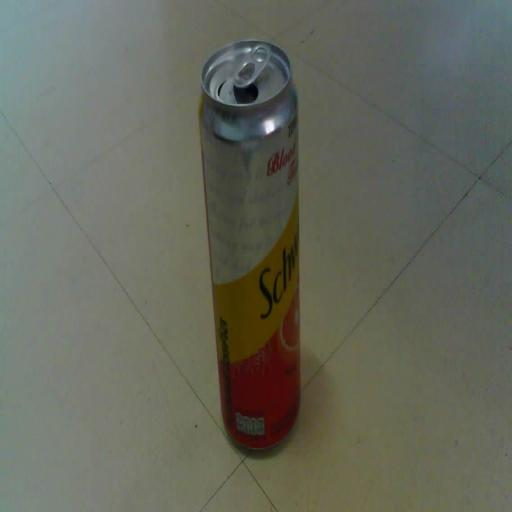canned: (190, 23, 324, 466)
